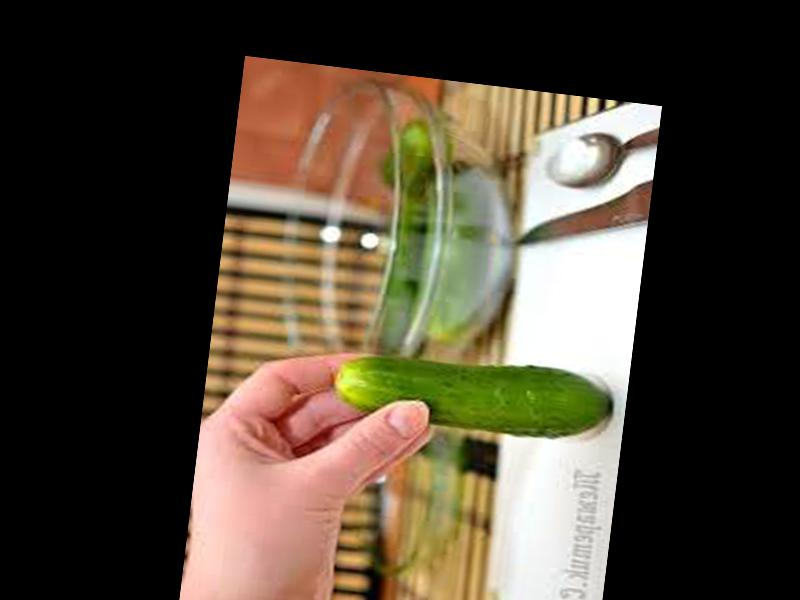Cucumber: (331, 342, 613, 445)
